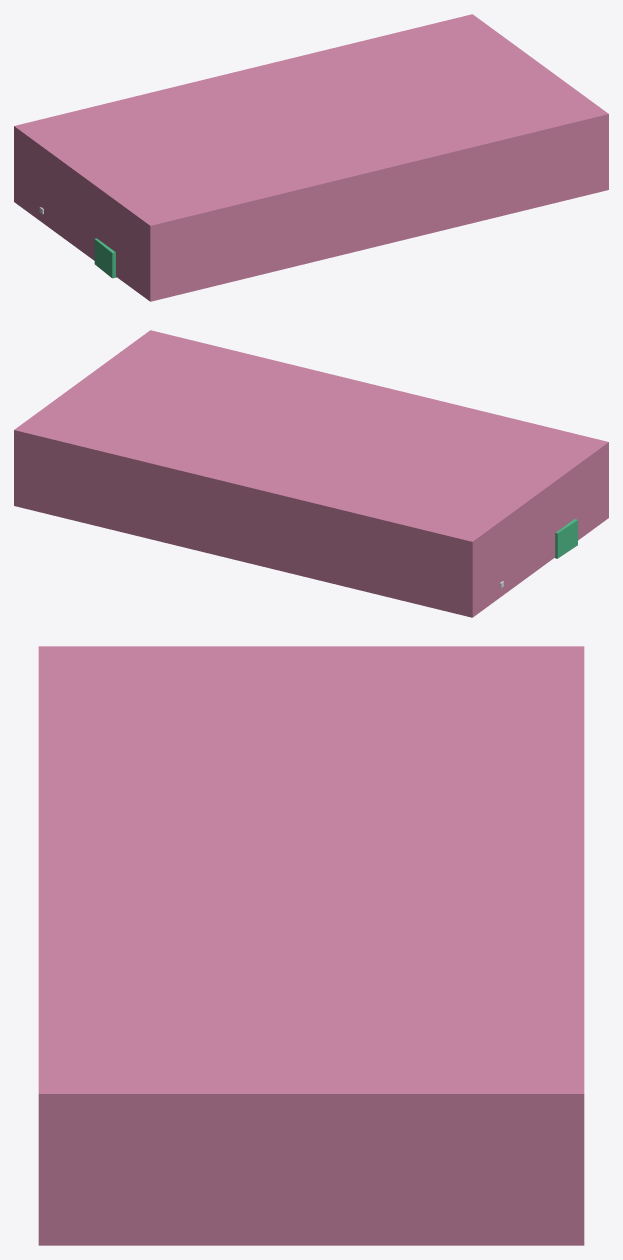
Rendered from ind_rubbish_01_d.dae.
3 views of the same model, one above another, from view 1: azimuth 30°, elevation 25°; view 2: azimuth 150°, elevation 25°; view 3: azimuth 270°, elevation 25° (orthographic). The views are drawn at different scales.
Visible parts, largest first — view 1: Untitled, Colmesh-1; view 2: Untitled, Colmesh-1; view 3: Untitled.
Part boxes in pixels (<box>): Untitled: <box>14,14,608,301</box>; Colmesh-1: <box>94,238,116,278</box>; Untitled: <box>14,330,608,617</box>; Colmesh-1: <box>555,519,577,558</box>; Untitled: <box>38,646,584,1245</box>.
Bounding box in the file's own units: 2.84 × 1.45 × 0.4523.
